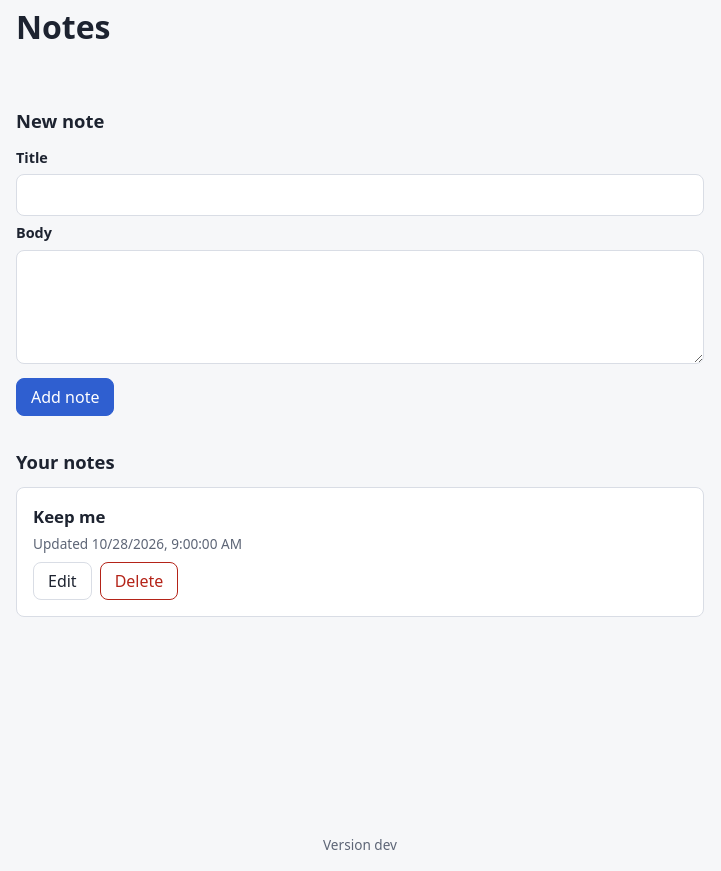
Test: editing a note › cancelling discards changes
Click the button "Edit" at (62, 581), box [33,562,92,600]
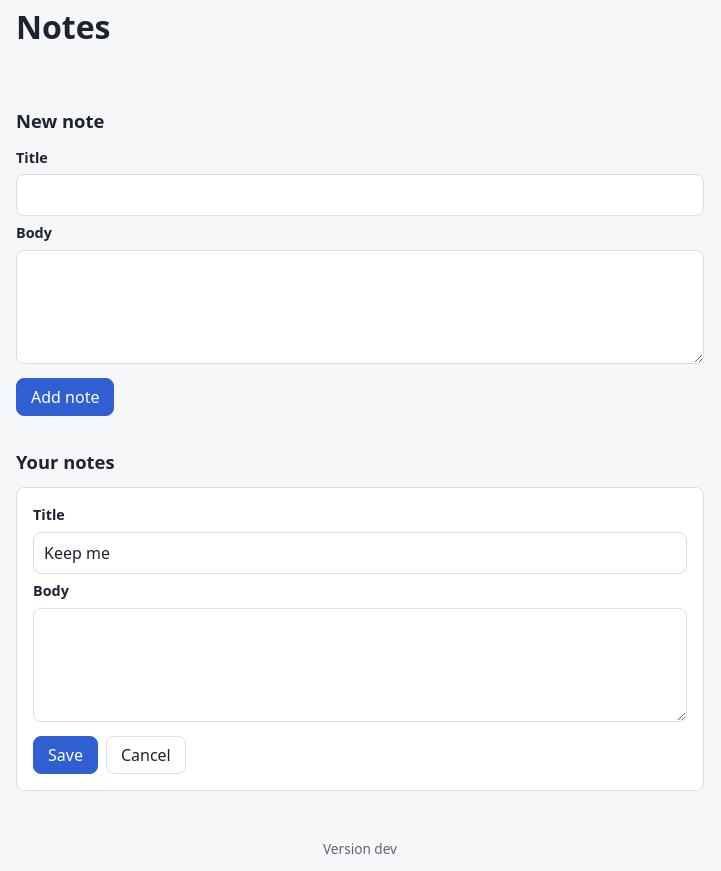
Type " changed" into the field labelled "Title" below "Your notes" at (360, 553), box [33,532,687,574]
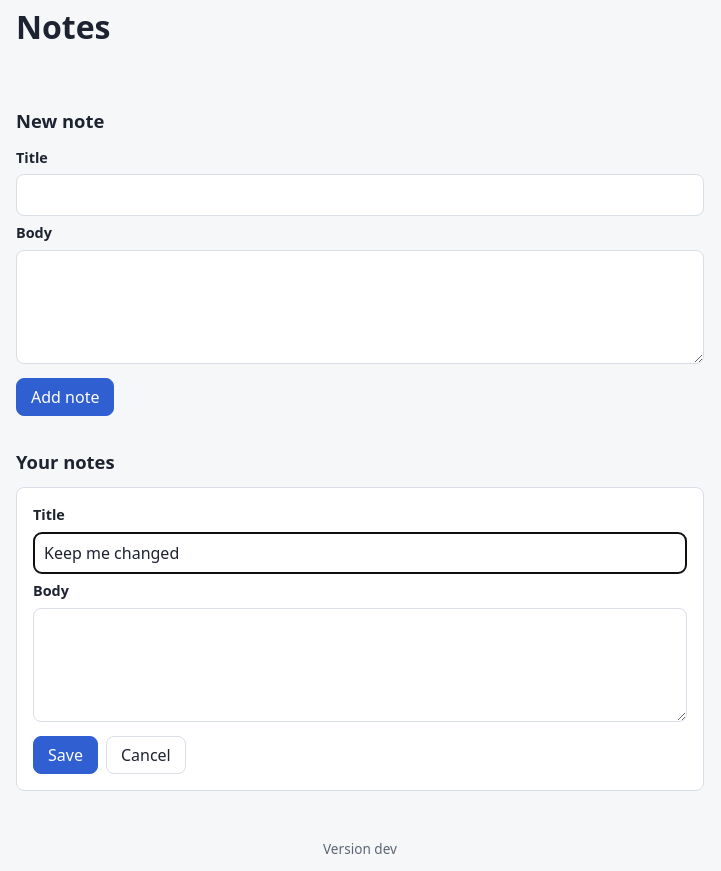
Click the button "Cancel" at (146, 755), box [106,736,186,774]
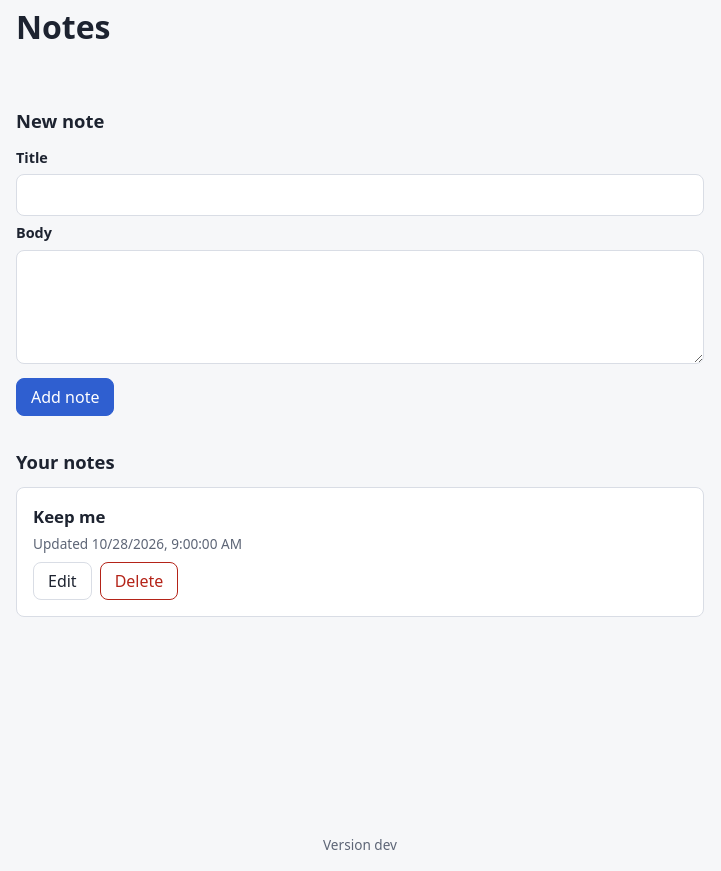
Now the heading "Keep me" is shown, box [33,505,105,528]
